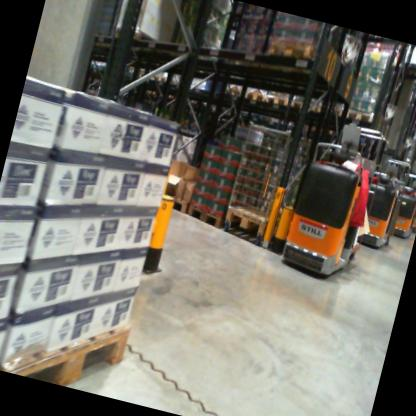pallet: (1, 294, 138, 398), (215, 204, 280, 246), (265, 34, 326, 75), (108, 24, 162, 53), (183, 203, 227, 234), (343, 104, 384, 132), (312, 96, 347, 125), (287, 91, 320, 118), (156, 194, 190, 220), (263, 85, 292, 114), (217, 77, 245, 106), (242, 86, 267, 108)
pallet_truck: (273, 109, 396, 295), (339, 144, 416, 259), (383, 162, 416, 254)
